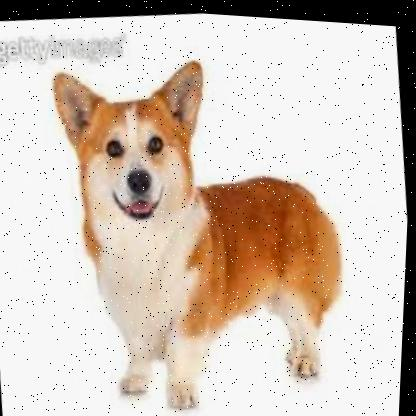dog: (35, 35, 366, 416)
